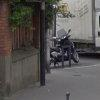Motorcycle: (45, 31, 83, 68)
